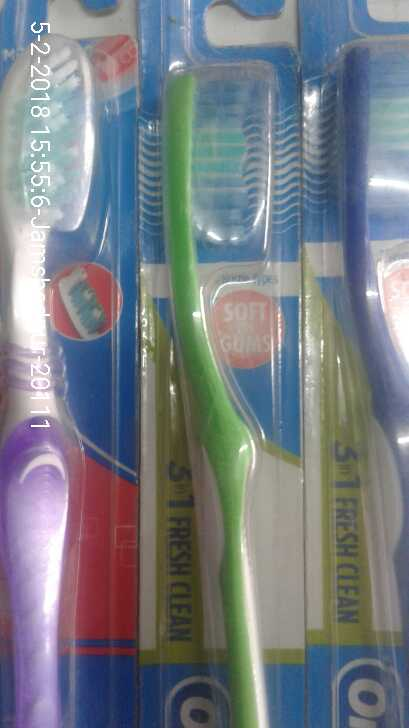oralb: (156, 47, 323, 728), (1, 30, 115, 728), (336, 45, 409, 728)
